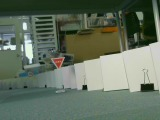stop: (50, 55, 65, 70)
